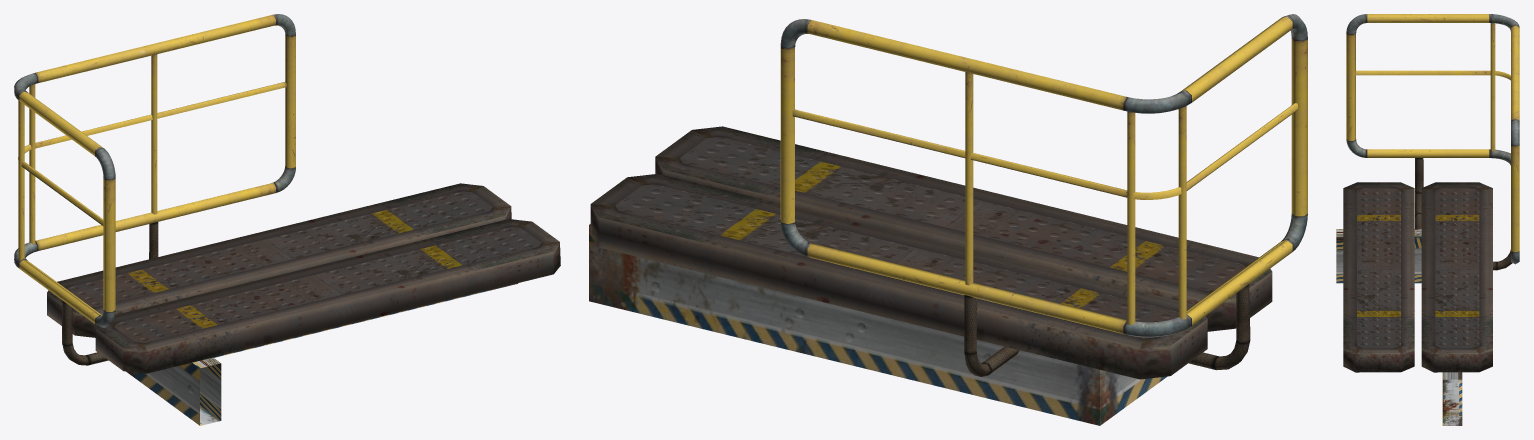
The model's file is FLO_Walkway_EdgeRight_1m.FBX.
The picture shows the model from 3 angles, left to right: view 1: azimuth 30°, elevation 25°; view 2: azimuth 150°, elevation 25°; view 3: azimuth 270°, elevation 25°; orthographic projection. The views are drawn at different scales.
Parts seen in each view (by area): view 1: FLO_Walkway_Edge_1m_Plates, FLO_Walkway_Edge_1m_Banister; view 2: FLO_Walkway_Edge_1m_Plates, FLO_Walkway_Edge_1m_Banister; view 3: FLO_Walkway_Edge_1m_Plates, FLO_Walkway_Edge_1m_Banister.
Boxes of the visible parts, x1,y1,x2,y2 form: FLO_Walkway_Edge_1m_Plates: [47, 183, 560, 425]; FLO_Walkway_Edge_1m_Banister: [14, 14, 295, 365]; FLO_Walkway_Edge_1m_Plates: [589, 126, 1272, 425]; FLO_Walkway_Edge_1m_Banister: [780, 14, 1307, 376]; FLO_Walkway_Edge_1m_Plates: [1336, 182, 1492, 425]; FLO_Walkway_Edge_1m_Banister: [1346, 14, 1519, 270].
Bounding box in the file's own units: 269 × 156 × 113.
2 materials, 2 textured.
